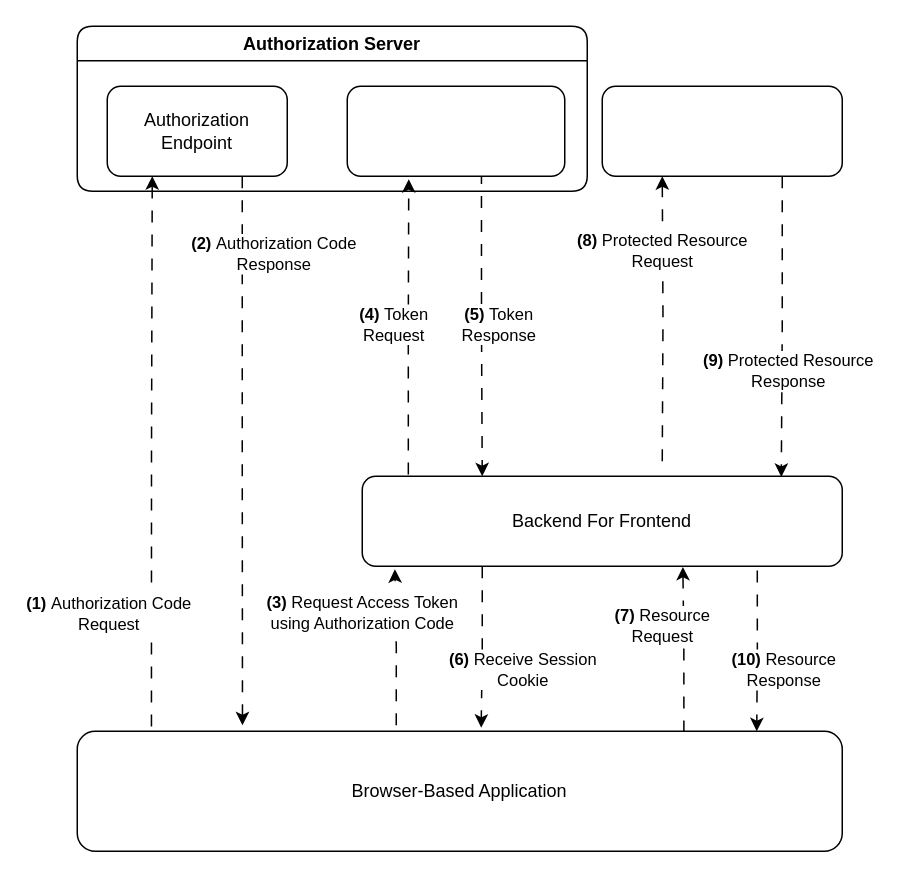
The diagram is 899 pixels wide and 878 high, and some of its shapes have lost their labels. Each missing label, with the centre of its shape:
"Resource Server" goes at (x=721, y=130).
"Token Endpoint" goes at (x=455, y=130).
